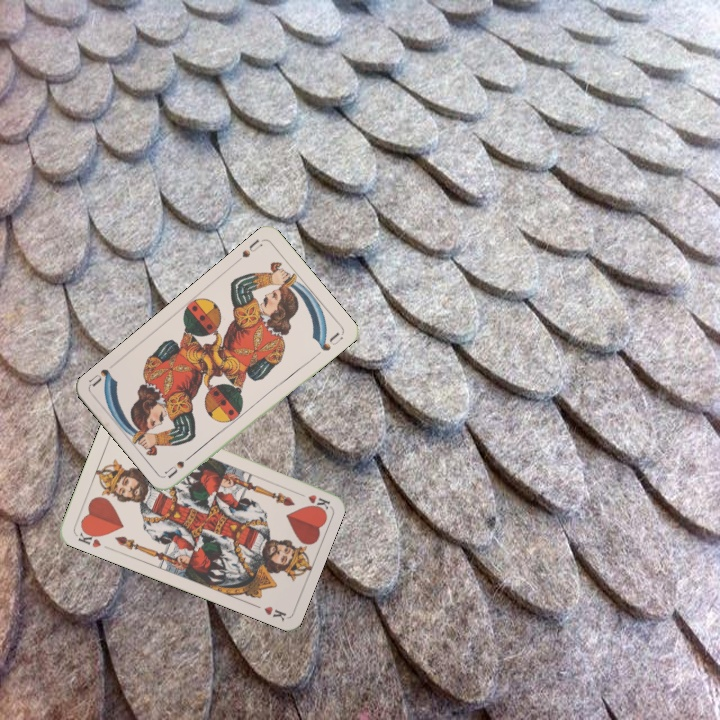HK: (292, 487, 332, 512), (72, 525, 104, 550)
SU: (162, 448, 197, 481), (238, 235, 265, 260)
